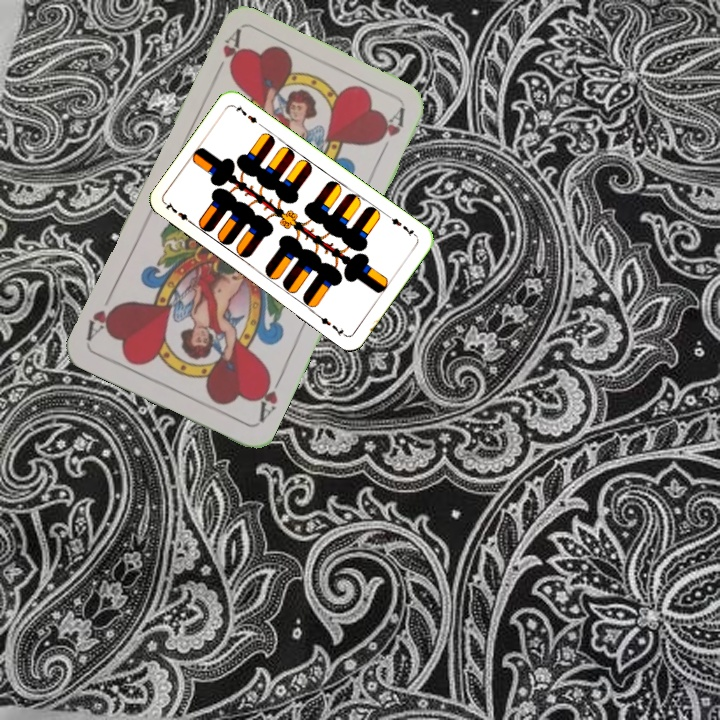E7: (161, 198, 197, 228), (384, 212, 419, 240)
HA: (209, 26, 244, 83), (252, 367, 286, 425)
